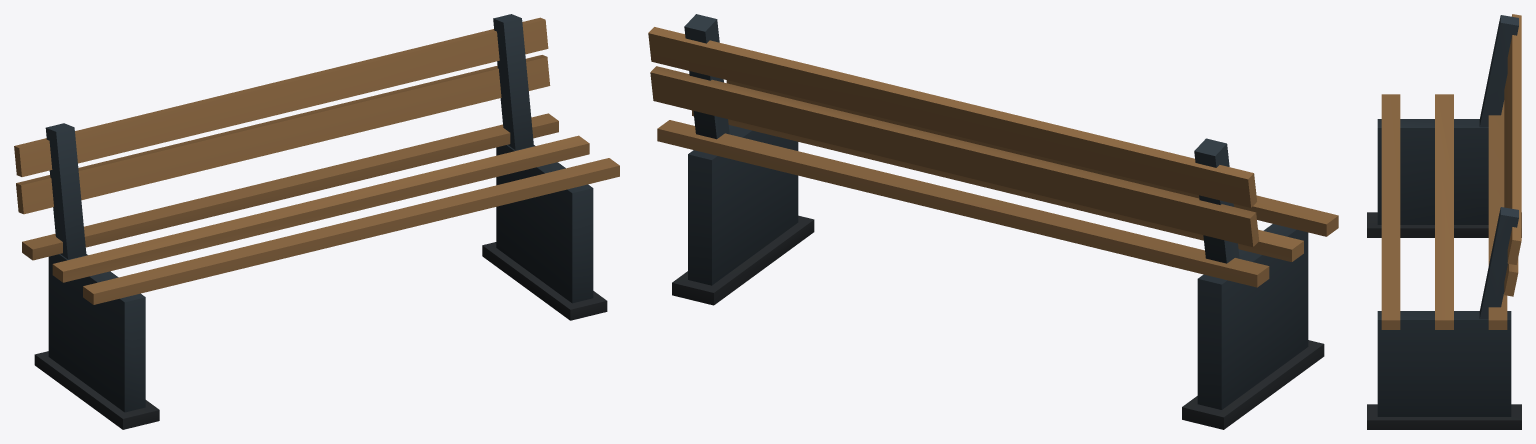
The model's file is street-bench.lod1.glb.
The picture shows the model from 3 angles, left to right: view 1: azimuth 30°, elevation 25°; view 2: azimuth 150°, elevation 25°; view 3: azimuth 270°, elevation 25°; orthographic projection. The views are drawn at different scales.
Parts seen in each view (by area): view 1: structure; view 2: structure; view 3: structure.
Part boxes in pixels (box(x1,y1,x2,y2)): structure: box(14, 14, 619, 429); structure: box(648, 14, 1338, 429); structure: box(1367, 14, 1521, 429).
Size of the model in its own units: 2 by 0.8722 by 0.58.
